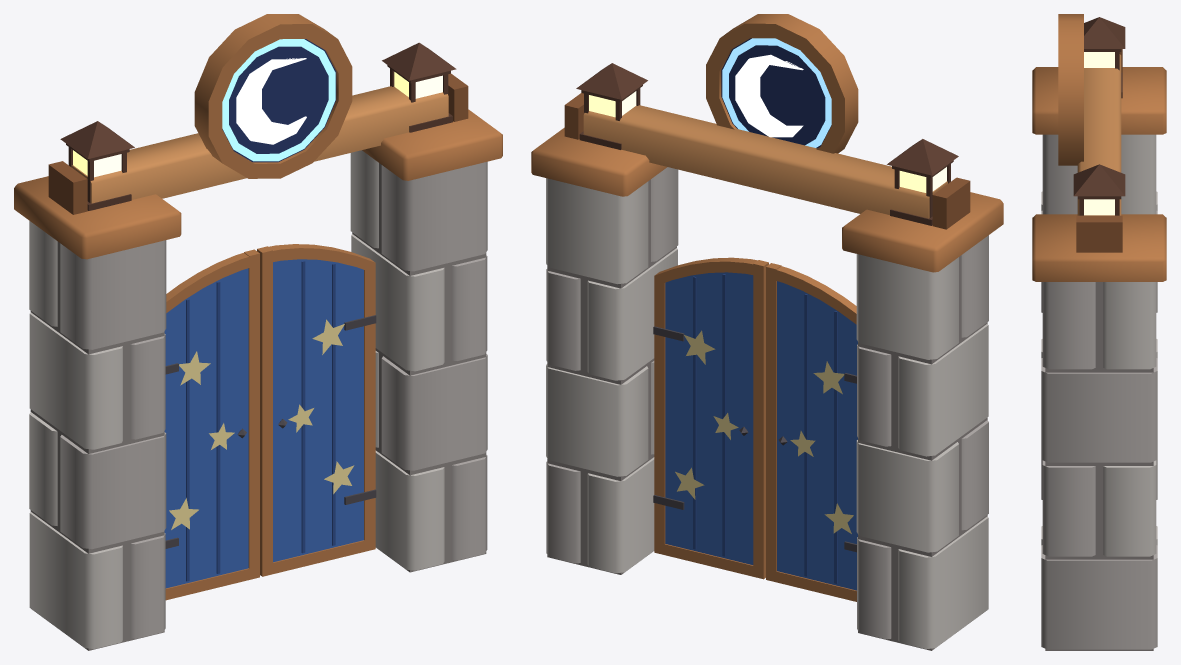
The model's file is moon_door.glb.
The picture shows the model from 3 angles, left to right: view 1: azimuth 30°, elevation 25°; view 2: azimuth 150°, elevation 25°; view 3: azimuth 270°, elevation 25°; orthographic projection. The views are drawn at different scales.
Visible parts, largest first — view 1: moon_door, leaf_r, leaf_l; view 2: moon_door, leaf_r, leaf_l; view 3: moon_door.
Part boxes in pixels (x1=…): moon_door: x1=14, y1=14, x2=502, y2=650; leaf_r: x1=237, y1=244, x2=376, y2=576; leaf_l: x1=164, y1=249, x2=287, y2=600; moon_door: x1=531, y1=14, x2=1003, y2=650; leaf_r: x1=653, y1=257, x2=787, y2=579; leaf_l: x1=739, y1=263, x2=857, y2=601; moon_door: x1=1032, y1=14, x2=1166, y2=650.
Size of the model in its own units: 3.54 by 4.6 by 1.04.
4 materials, 4 textured.
